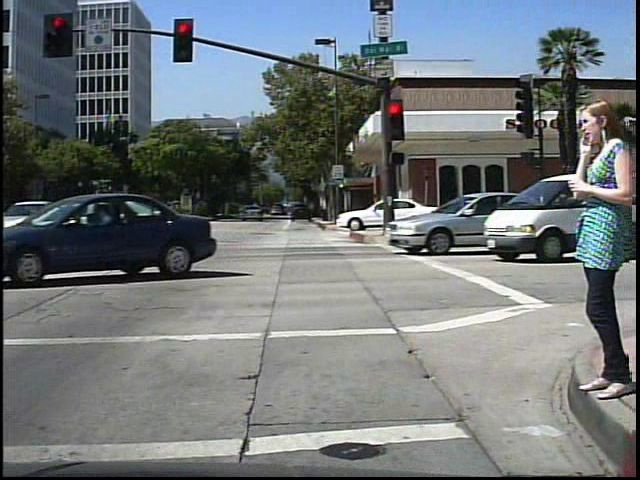person: (565, 86, 633, 409)
